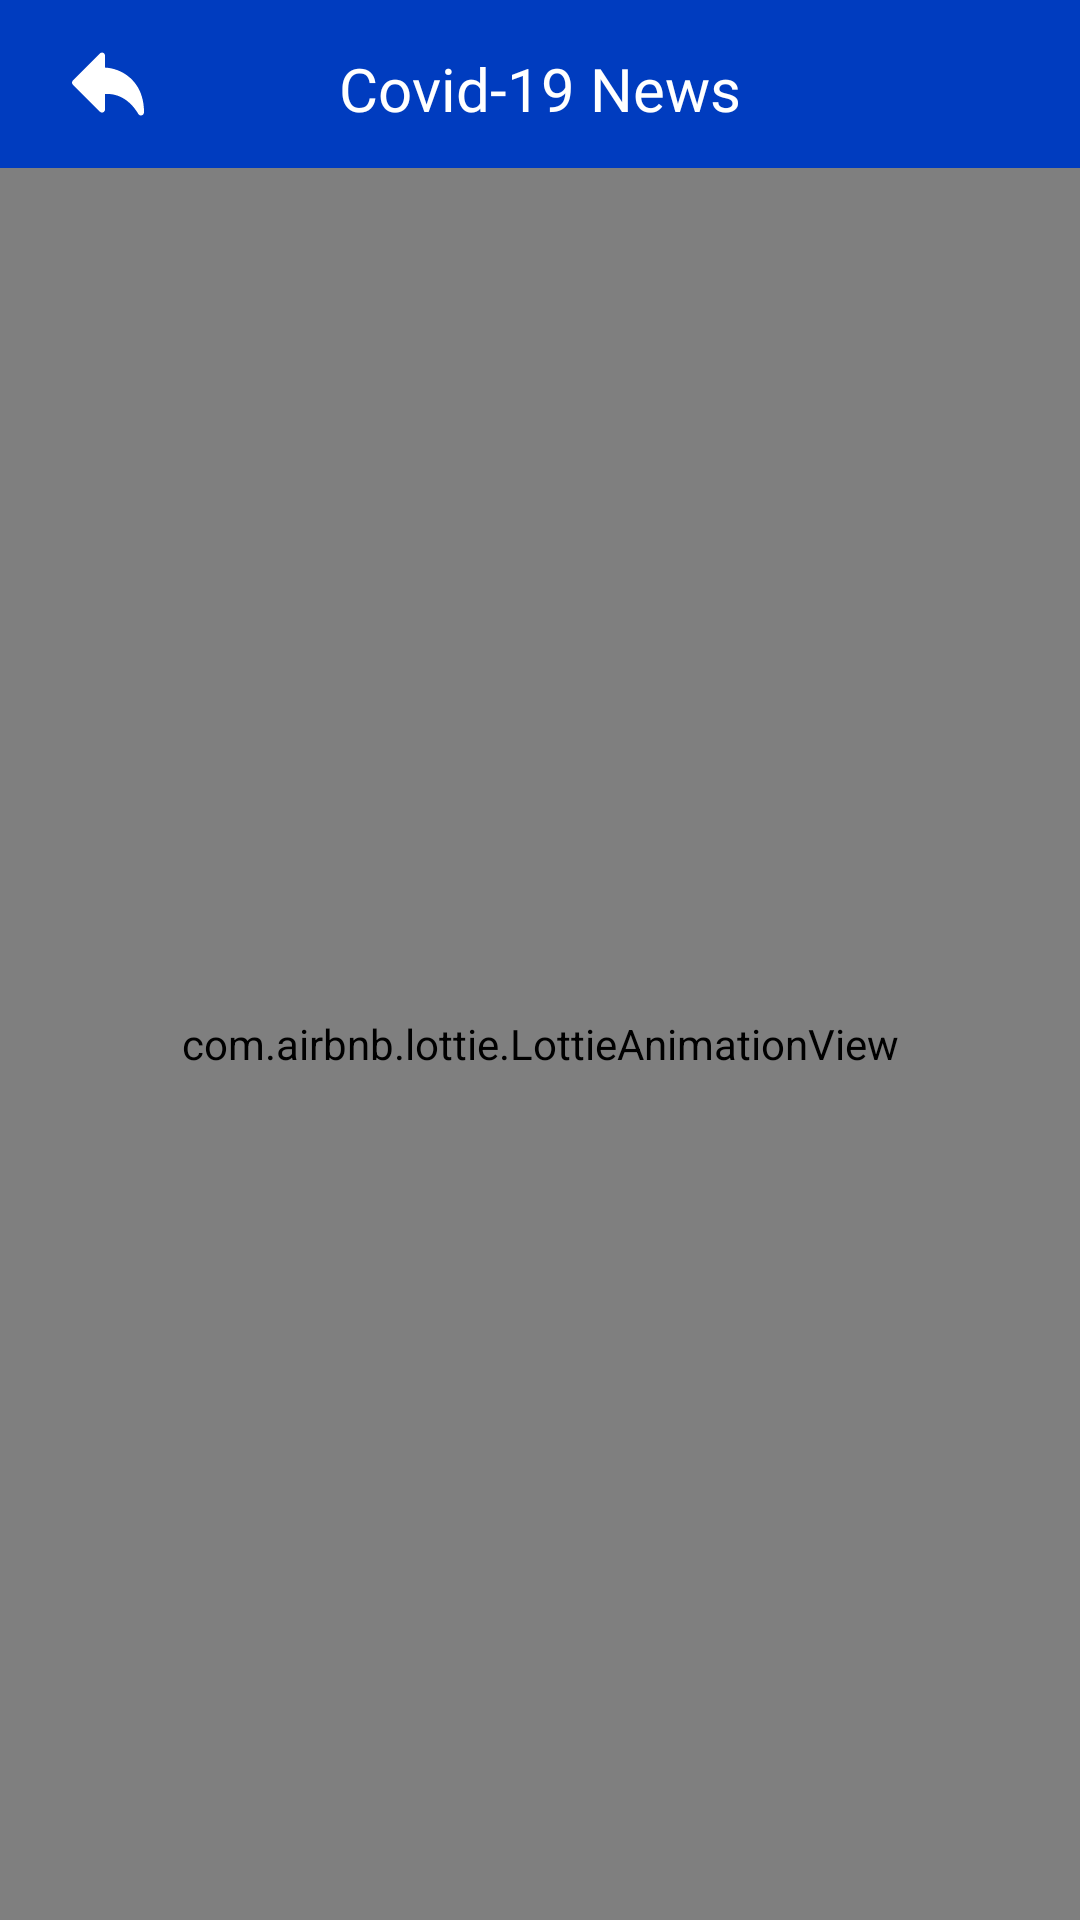

Icons on this 1080 x 1920 Android screen, each with its box as bbox=[x1, y1, x2, y2]:
backward: bbox=[72, 52, 144, 116]
